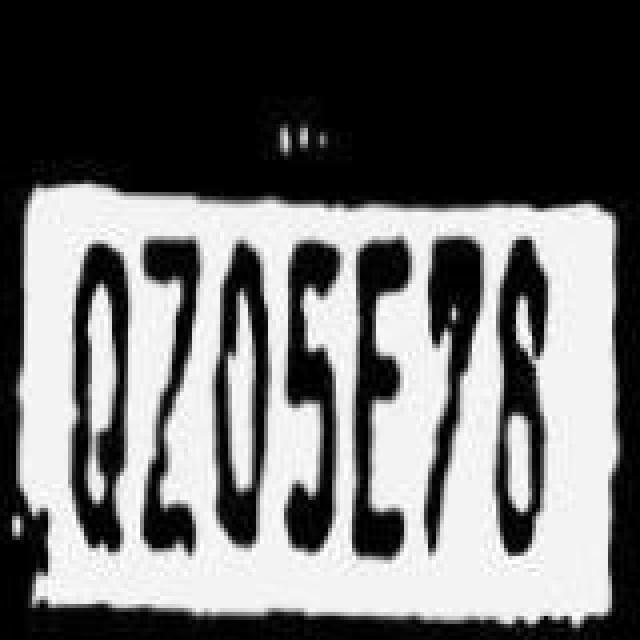5: (274, 236, 354, 552)
7: (420, 234, 488, 558)
8: (486, 232, 558, 560)
E: (348, 232, 424, 568)
O: (206, 232, 286, 560)
Q: (68, 232, 128, 560)
Z: (138, 222, 202, 566)
